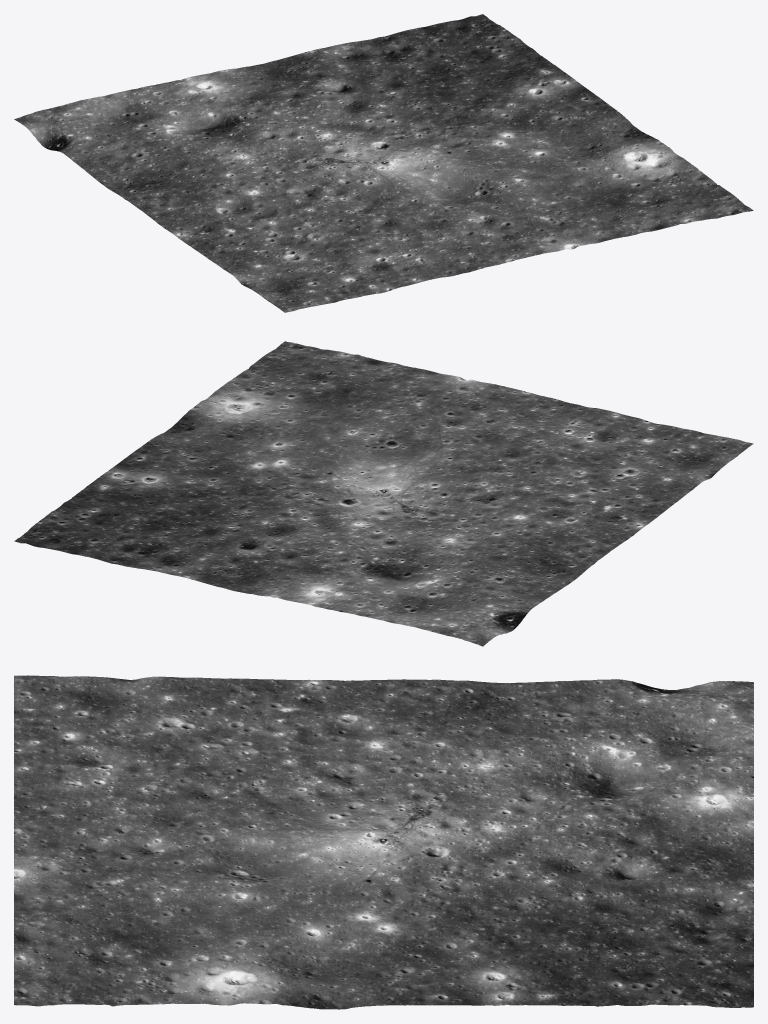
The model's file is close-low.glb.
3 views of the same model, one above another, from view 1: azimuth 30°, elevation 25°; view 2: azimuth 150°, elevation 25°; view 3: azimuth 270°, elevation 25° (orthographic). The views are drawn at different scales.
Parts seen in each view (by area): view 1: close; view 2: close; view 3: close.
Boxes of the visible parts, box(x1,y1,x2,y2) form: close: box(14, 14, 753, 312); close: box(14, 341, 753, 646); close: box(14, 675, 753, 1009).
Bounding box in the file's own units: 1015 × 34.94 × 1015.
Materials: 1 (1 with a texture image).
